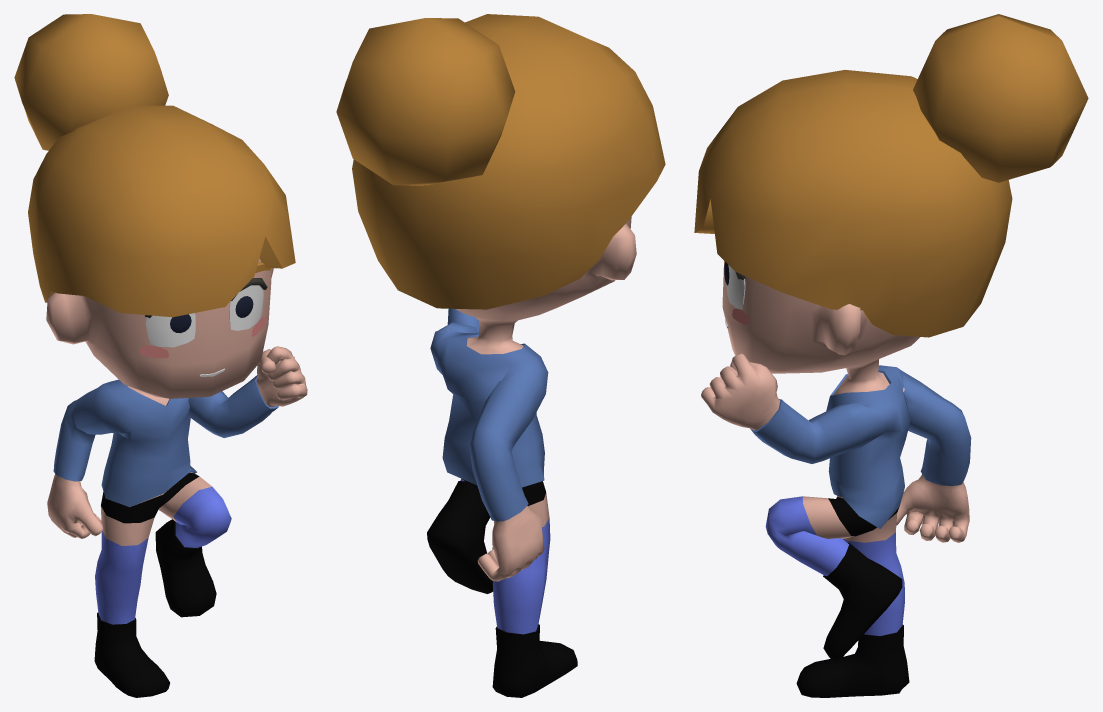
The model's file is Personajes_Rockeros_003.fbx.
The picture shows the model from 3 angles, left to right: view 1: azimuth 30°, elevation 25°; view 2: azimuth 150°, elevation 25°; view 3: azimuth 270°, elevation 25°; orthographic projection. The views are drawn at different scales.
Visible parts, largest first — view 1: hair6.001, body.018, shirt3, socks.014, eyesbase1.008, eyes6.012, cheeks.004; view 2: hair6.001, shirt3, body.018, socks.014; view 3: hair6.001, body.018, shirt3, socks.014, eyesbase1.008.
Boxes of the visible parts, <box> form: hair6.001: <box>14,14,295,317</box>; body.018: <box>46,258,307,624</box>; shirt3: <box>53,375,278,507</box>; socks.014: <box>94,519,216,697</box>; eyesbase1.008: <box>144,278,267,347</box>; eyes6.012: <box>170,296,253,333</box>; cheeks.004: <box>139,316,266,358</box>; hair6.001: <box>336,14,665,309</box>; shirt3: <box>430,308,548,521</box>; body.018: <box>440,216,636,634</box>; socks.014: <box>427,481,577,697</box>; hair6.001: <box>694,14,1088,337</box>; body.018: <box>701,261,969,635</box>; shirt3: <box>750,365,971,528</box>; socks.014: <box>796,543,909,697</box>; eyesbase1.008: <box>726,265,745,309</box>.
Size of the model in its own units: 74.78 by 196 by 102.
